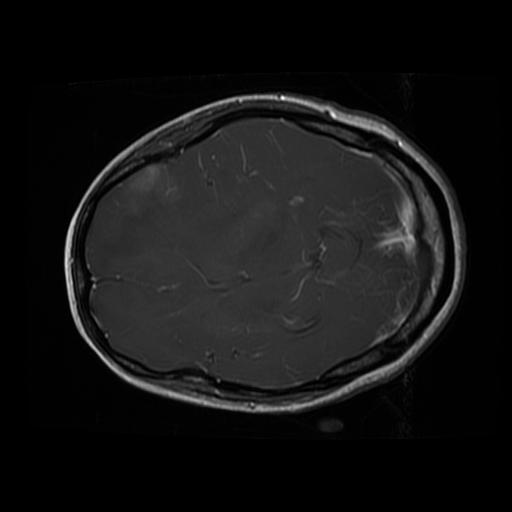glioma: (111, 161, 179, 220)
